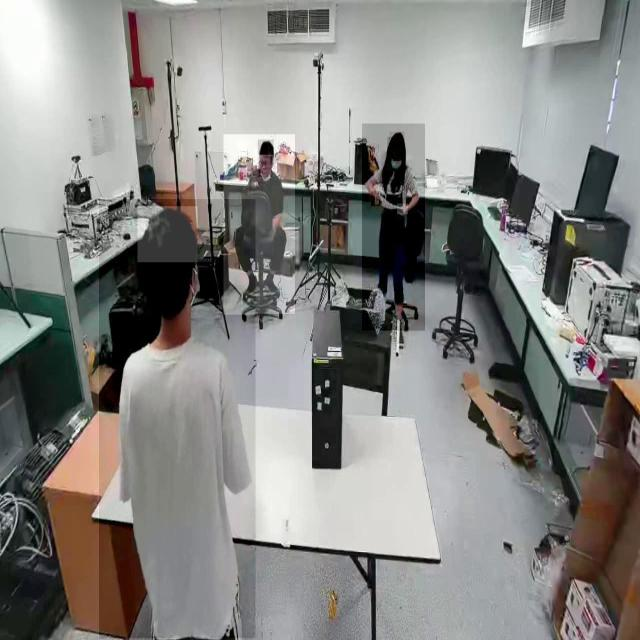face_mask: (387, 137, 403, 182)
face_nomask: (258, 156, 272, 178)
hand_noglove: (371, 191, 381, 207), (397, 204, 409, 215)
head_nohelmet: (138, 206, 198, 263), (258, 140, 274, 156), (389, 132, 405, 146)
person: (99, 199, 256, 639), (362, 124, 426, 332), (223, 134, 296, 315)
shoes: (263, 266, 281, 300), (243, 271, 261, 298)
